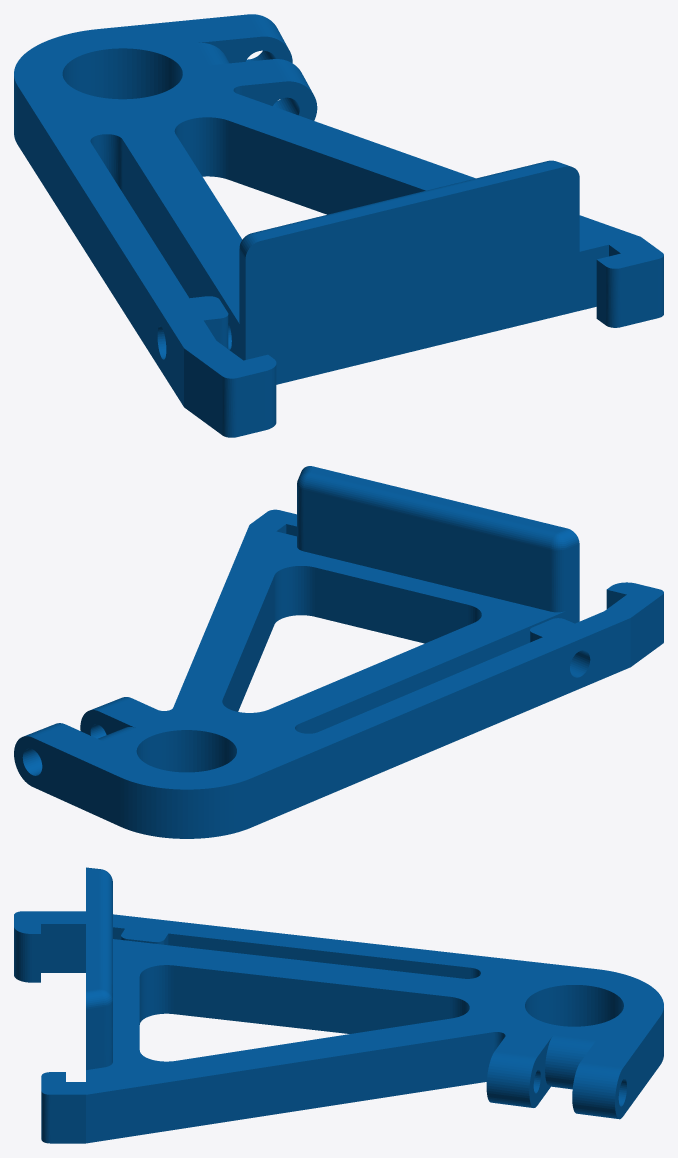
File: Bracket-23.glb
3 renders of one model, top to bottom at view 1: azimuth 30°, elevation 25°; view 2: azimuth 150°, elevation 25°; view 3: azimuth 270°, elevation 25°, orthographic. The views are drawn at different scales.
Size of the model in its own units: 48.5 by 15 by 72.59.
